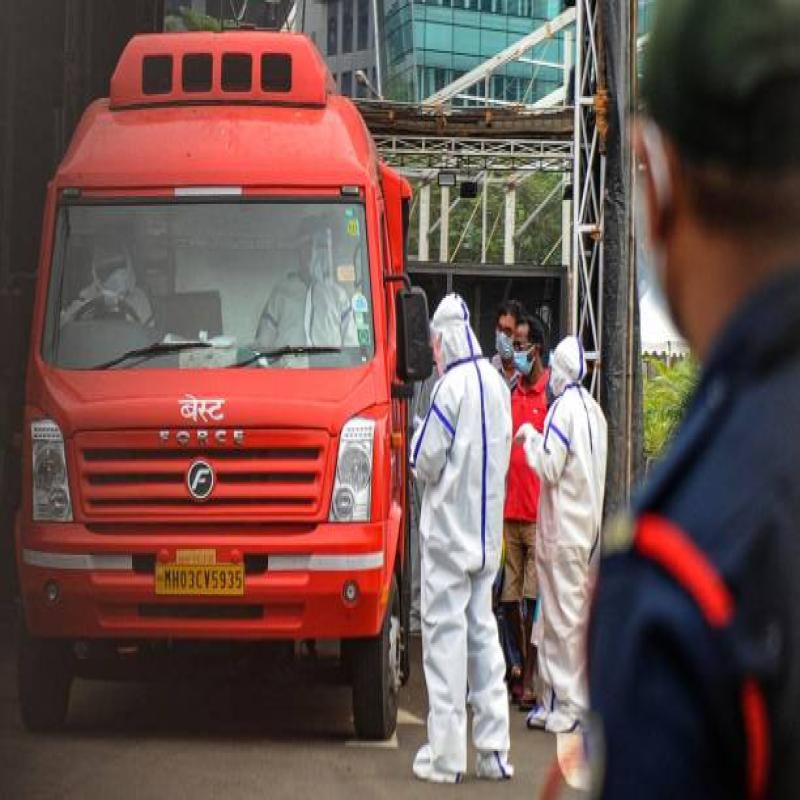ambulance: (54, 81, 380, 725)
